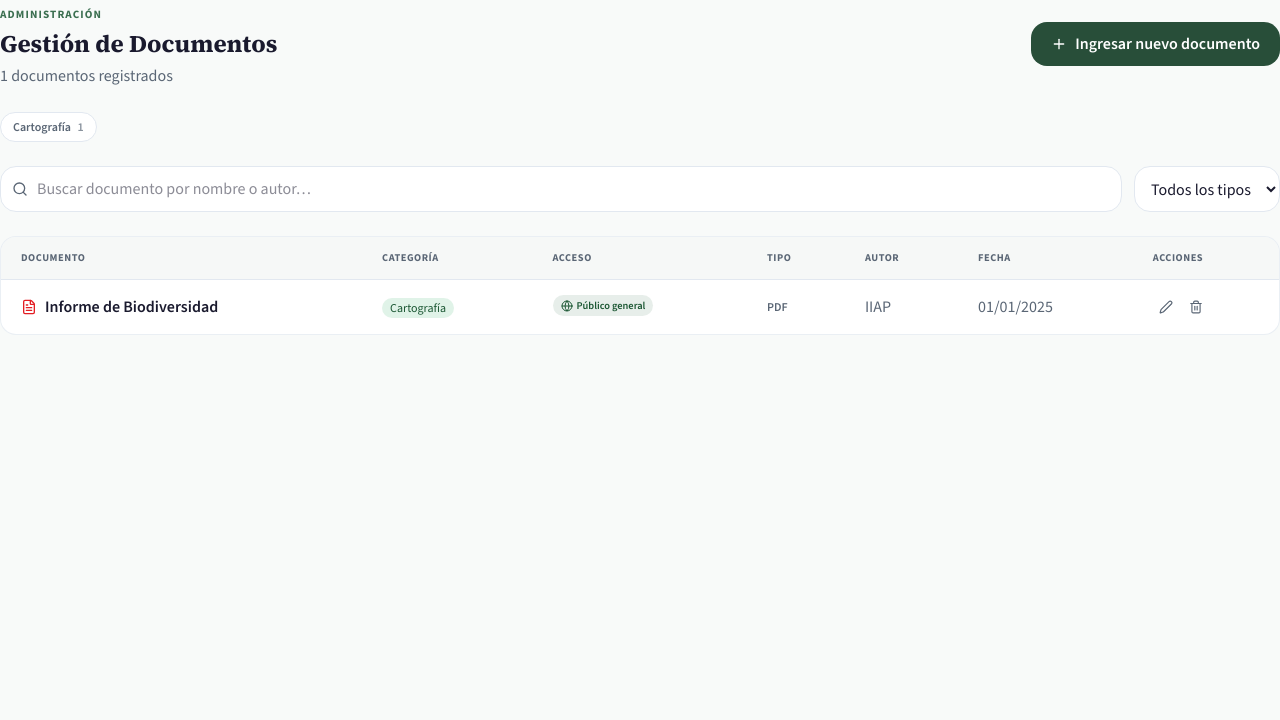
Scenario: GestionDocumentos — edición › editar precarga el formulario con los datos del documento
This screenshot has width=1280, height=720.
Click the button titled "Editar documento" at (1166, 307), box [1153, 294, 1179, 320]
(page scrolled)
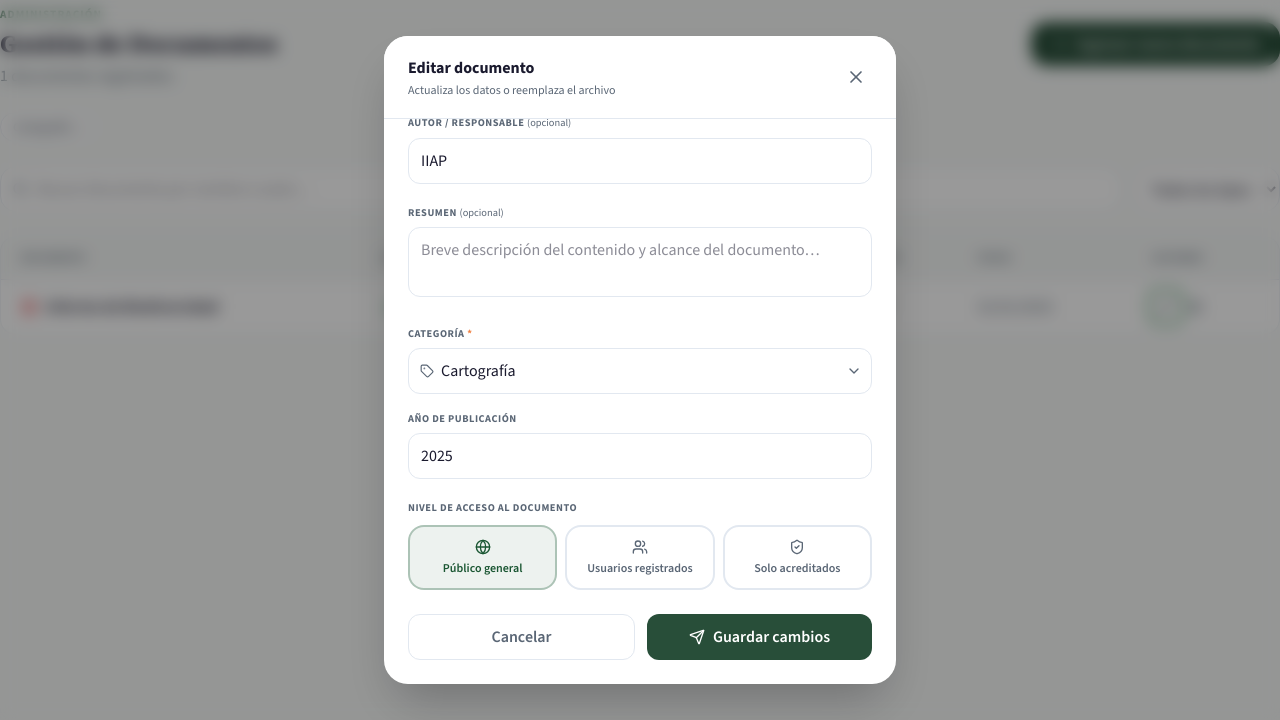
expect the heading "Editar documento" is shown: met, box [408, 57, 534, 78]
expect the field labelled "Nombre del documento *" holds "Informe de Biodiversidad": met, box [408, 48, 872, 94]
expect the button "Guardar cambios" is shown: met, box [647, 614, 872, 660]
